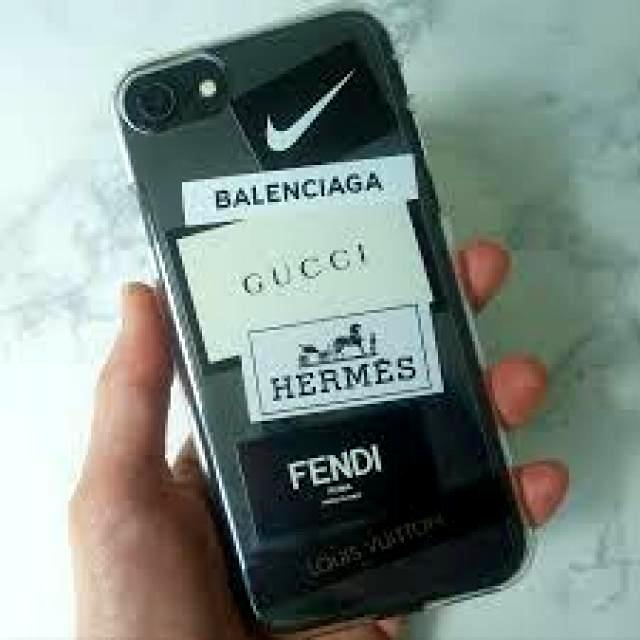lens_back: (128, 75, 182, 129)
phone: (112, 11, 536, 636)
